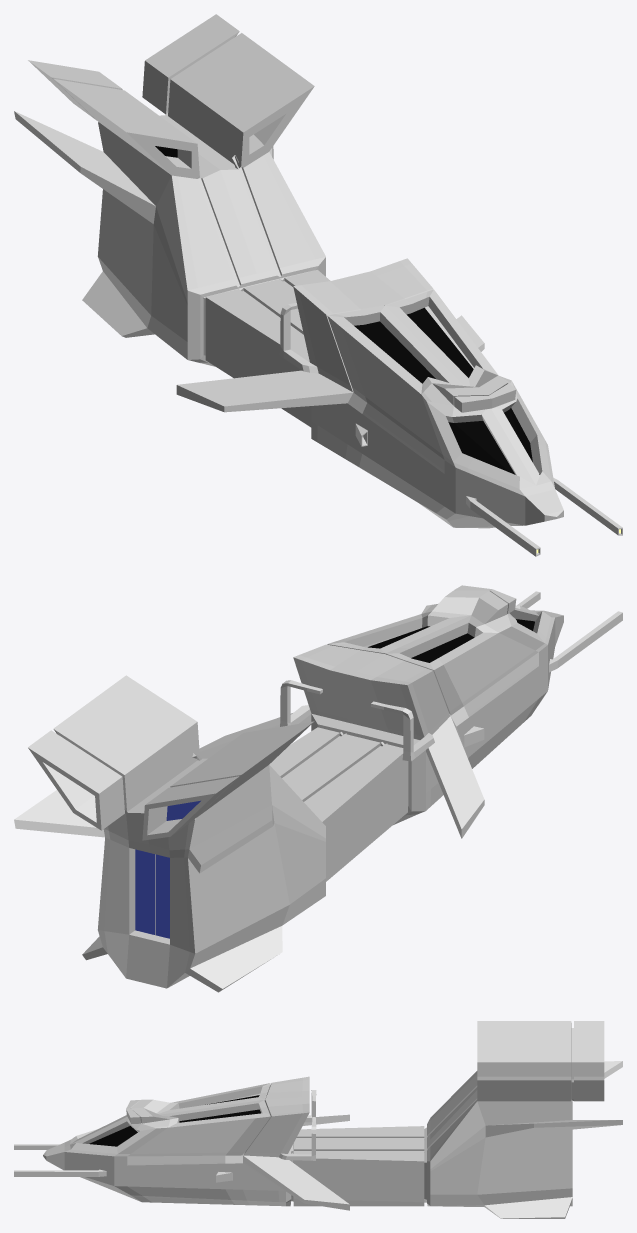
Rendered from speeder.fbx.
The picture shows the model from 3 angles, top to bottom: view 1: azimuth 30°, elevation 25°; view 2: azimuth 150°, elevation 25°; view 3: azimuth 270°, elevation 25°; orthographic projection. The views are drawn at different scales.
Parts seen in each view (by area): view 1: Cube; view 2: Cube; view 3: Cube.
Boxes of the visible parts, x1,y1,x2,y2 form: Cube: (14, 14, 622, 556); Cube: (14, 585, 622, 992); Cube: (14, 1021, 622, 1218).
Bounding box in the file's own units: 411 × 319 × 1180.
